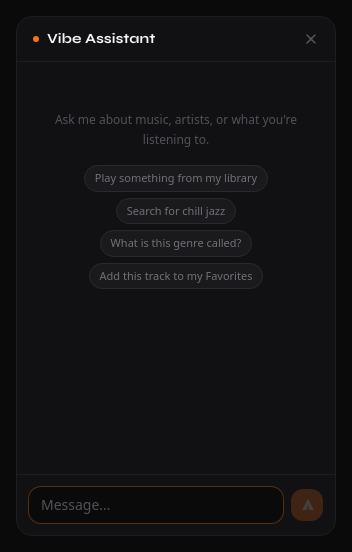
Scenario: ChatWindow › send button enables when input has text
The width and height of the screenshot is (352, 552).
Type "Hello" into the field with placeholder "Message…".
click(156, 505); type("Hello")  # box [29,487,283,523]
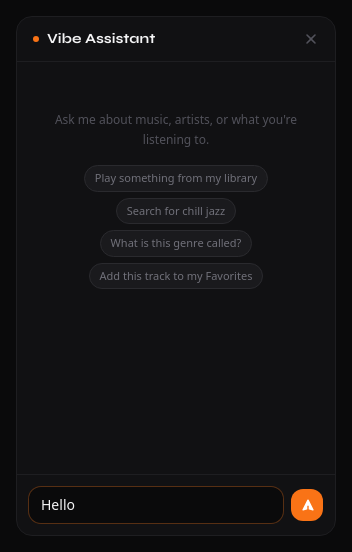
expect the button named "Send" is enabled: met, box [291,489,323,521]
